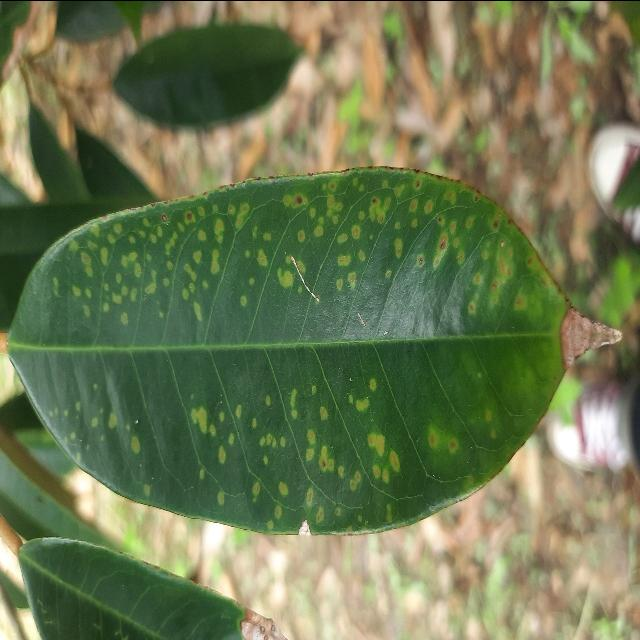Leaf Spot: (0, 153, 619, 550)
